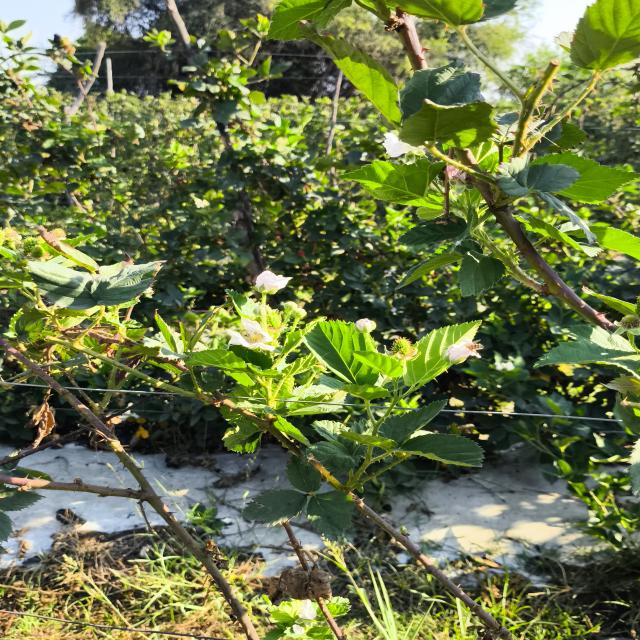boton: (354, 318, 376, 333), (256, 304, 271, 319), (291, 308, 307, 319), (284, 301, 298, 313)
flor: (227, 318, 275, 351), (445, 338, 483, 363), (254, 271, 292, 294)
